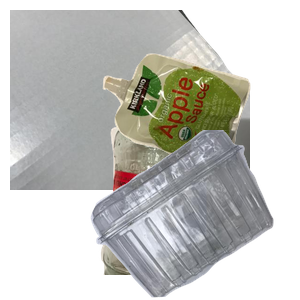cardboard: (10, 10, 250, 190)
glass: (98, 120, 286, 300)
plastic: (88, 130, 300, 300)
trash: (100, 51, 300, 214)
